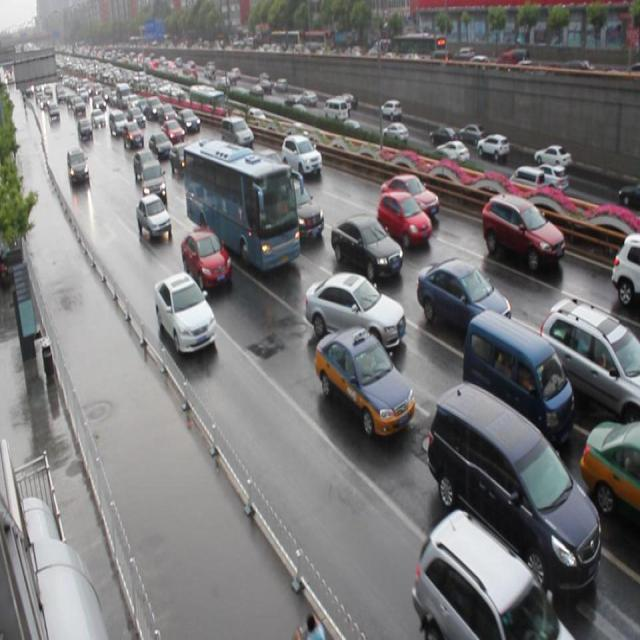car: (410, 506, 573, 640), (537, 296, 640, 427), (316, 324, 414, 436), (304, 270, 406, 352), (415, 257, 510, 336), (479, 190, 564, 272), (577, 418, 640, 528), (153, 269, 217, 354), (331, 214, 403, 284), (180, 224, 232, 292), (272, 177, 324, 244), (376, 189, 430, 250), (380, 169, 439, 223), (610, 230, 640, 306), (279, 132, 323, 179), (135, 191, 173, 240), (140, 158, 168, 202)
truck: (427, 382, 600, 595), (462, 308, 571, 439), (219, 113, 255, 149)
van: (182, 139, 299, 272)
